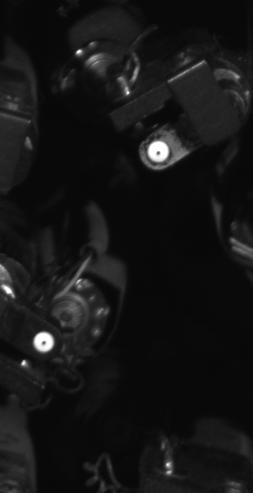fiber: (27, 325, 63, 362), (144, 136, 177, 169)
